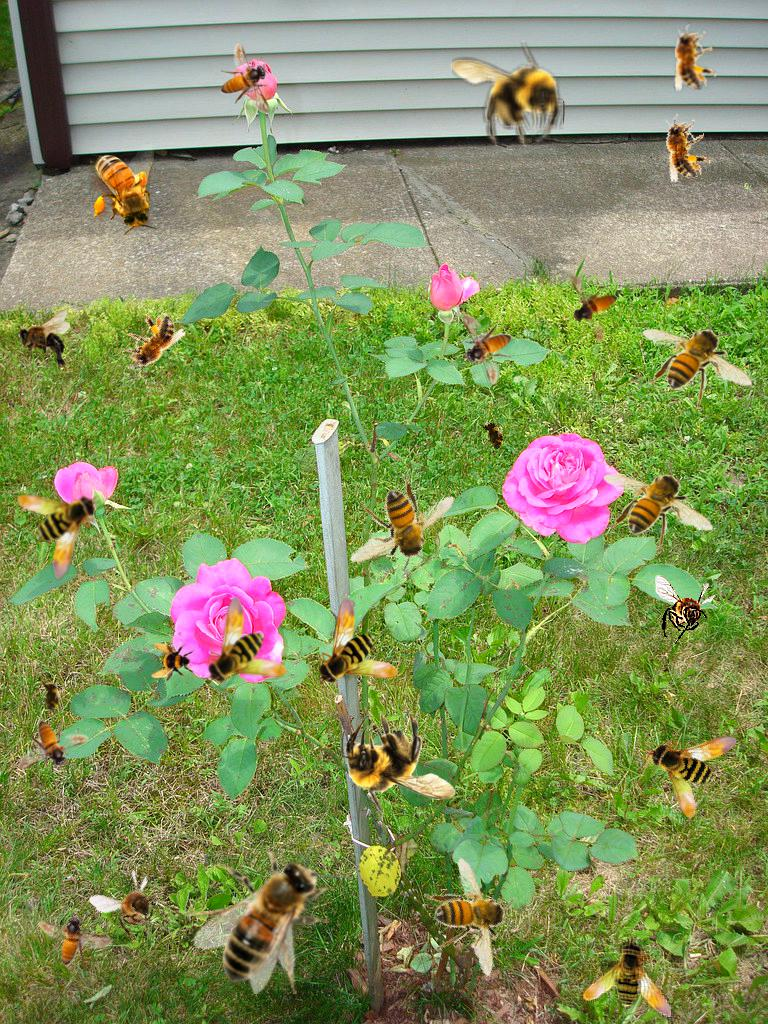Bee: (185, 832, 352, 994), (400, 847, 543, 993), (328, 454, 469, 600), (644, 710, 760, 824), (341, 711, 456, 818), (450, 40, 565, 147), (573, 932, 695, 1024), (603, 460, 714, 554), (642, 315, 753, 409), (7, 486, 101, 584), (87, 859, 180, 953), (26, 896, 114, 981), (316, 597, 398, 685), (205, 596, 287, 684), (90, 142, 158, 235), (112, 303, 188, 384), (652, 108, 716, 185), (655, 575, 716, 645), (664, 20, 720, 93), (18, 720, 89, 770), (569, 274, 619, 345), (220, 43, 270, 114), (462, 314, 512, 385), (17, 310, 70, 372), (151, 641, 195, 685), (476, 413, 512, 459), (40, 677, 62, 717)
